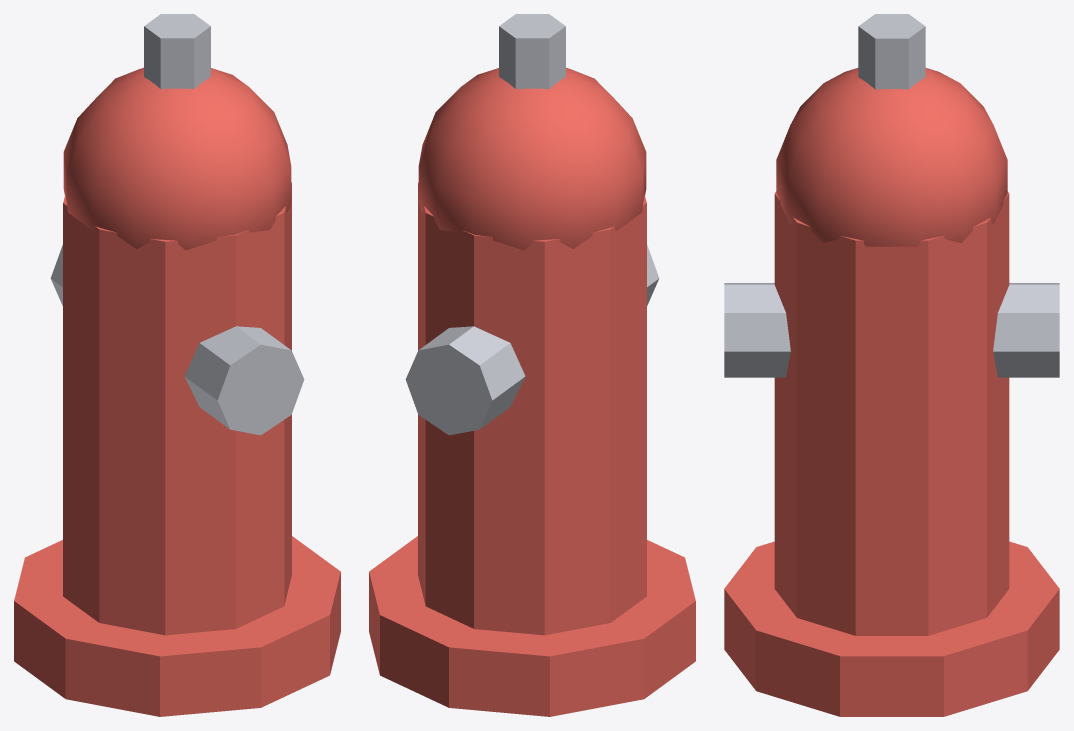
The model's file is city__hydrant.fbx.
3 renders of one model, left to right at view 1: azimuth 30°, elevation 25°; view 2: azimuth 150°, elevation 25°; view 3: azimuth 270°, elevation 25°, orthographic.
Parts seen in each view (by area): view 1: city__hydrant; view 2: city__hydrant; view 3: city__hydrant.
Boxes of the visible parts, left/top/right/bottom form: city__hydrant: left=14, top=14, right=340, bottom=716; city__hydrant: left=369, top=14, right=695, bottom=716; city__hydrant: left=724, top=14, right=1059, bottom=716.
Bounding box in the file's own units: 0.3804 × 0.82 × 0.4.
